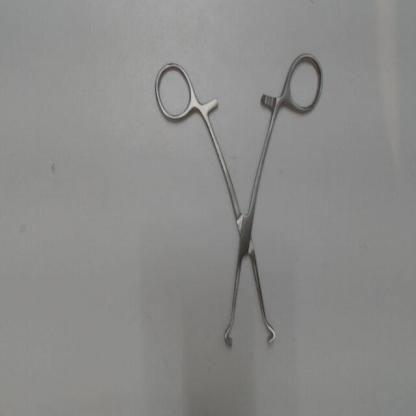Babcock Tissue Forceps: (150, 47, 330, 354)
